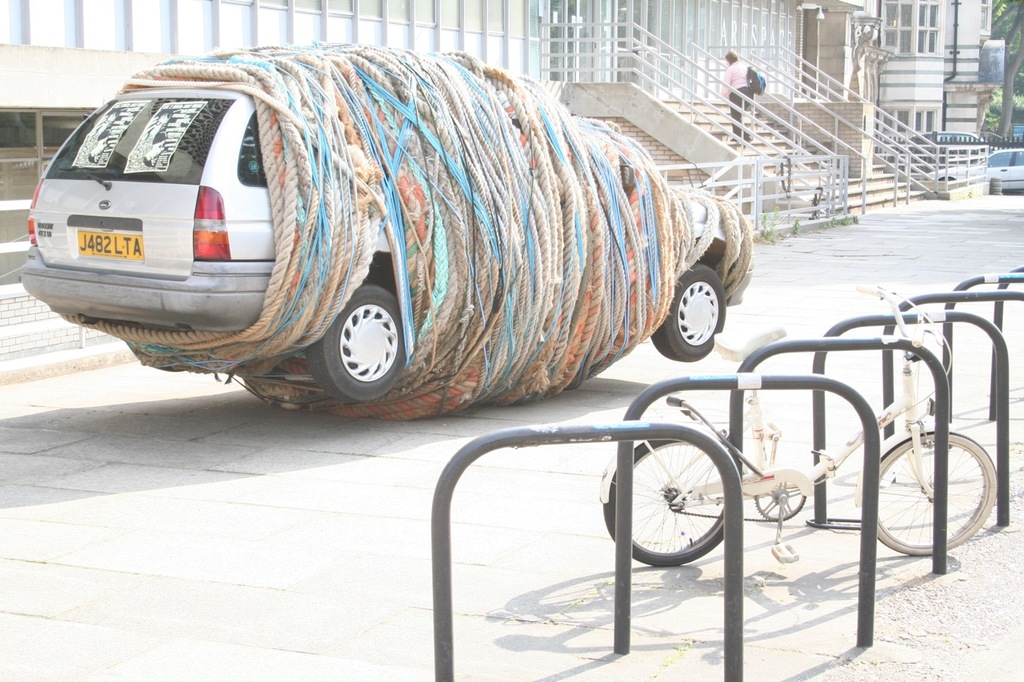Car: (38, 57, 731, 409), (931, 145, 1023, 199), (900, 128, 986, 149)
